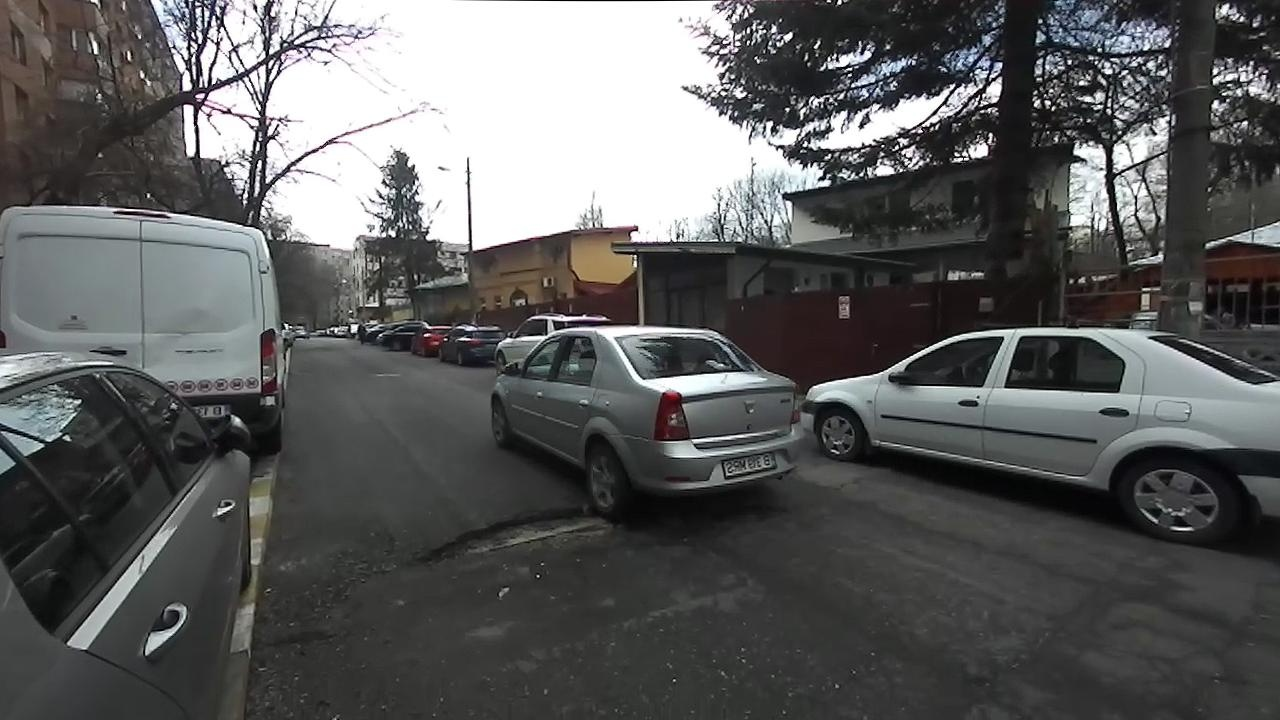pothole: (408, 511, 621, 569), (716, 504, 793, 530)
